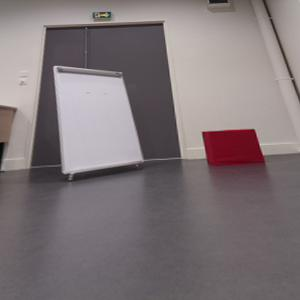big: (54, 64, 144, 176)
medium: (203, 129, 265, 165)
